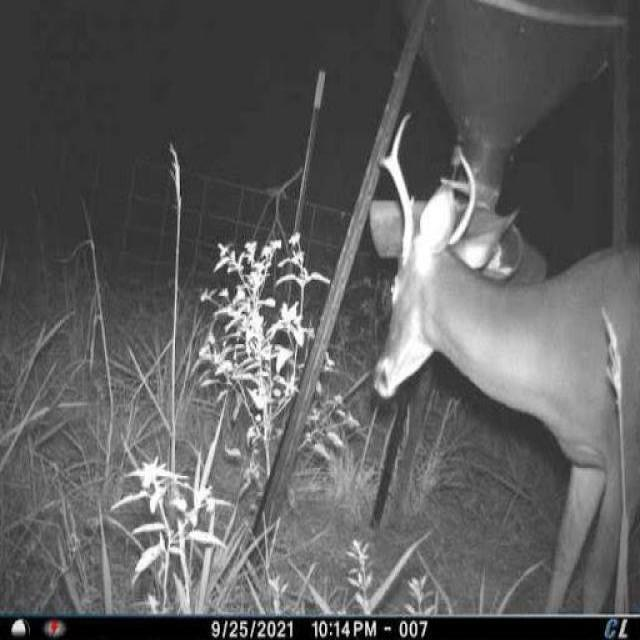deer: (370, 105, 640, 618)
